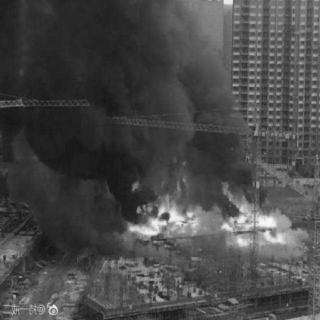Fire: (128, 172, 202, 242), (218, 178, 286, 252)
